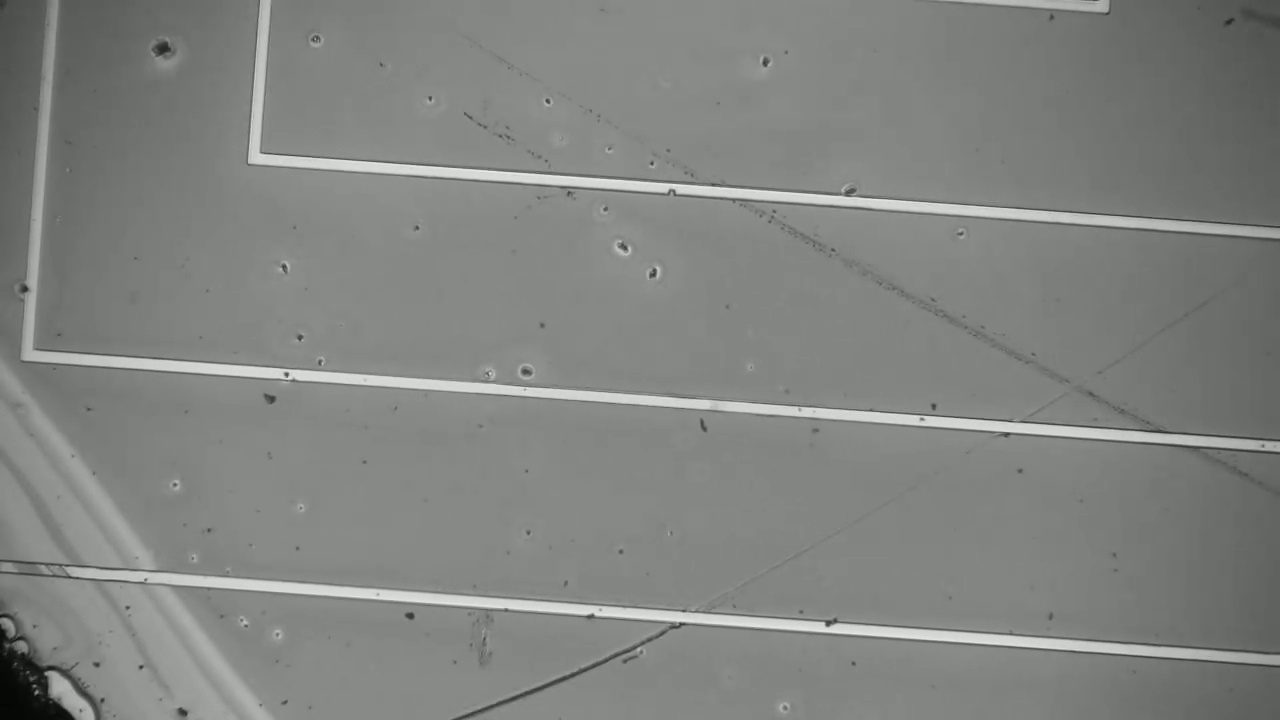edge_bite: (664, 176, 683, 200)
gray_line: (0, 547, 85, 593)
scratch: (467, 34, 1260, 478), (693, 311, 1201, 609), (448, 624, 682, 720)
stains_enbedded: (814, 610, 848, 641), (11, 278, 41, 304)
